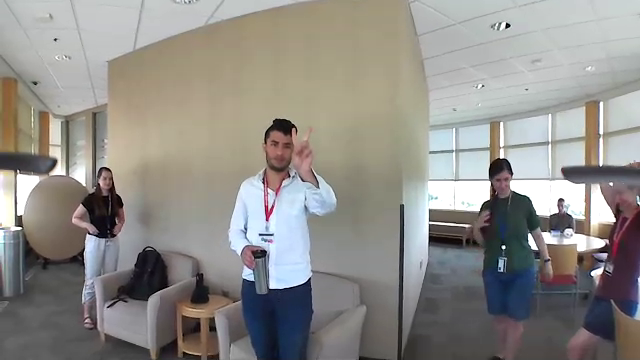peace: (283, 122, 320, 171)
